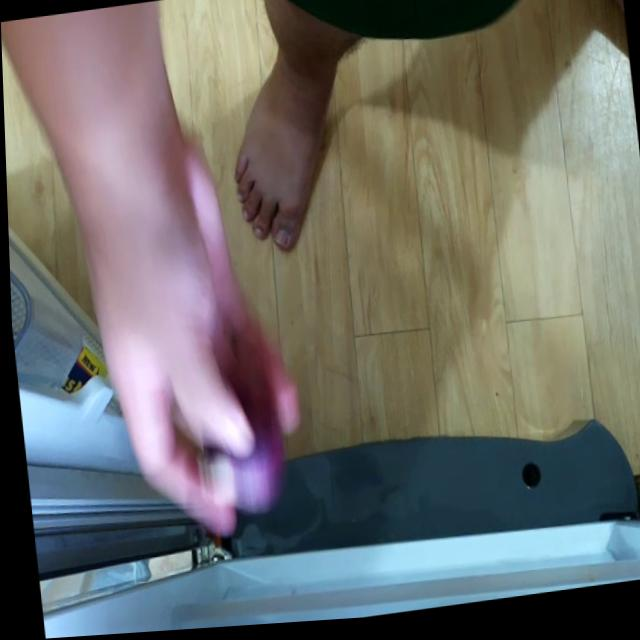onion: (187, 391, 283, 515)
